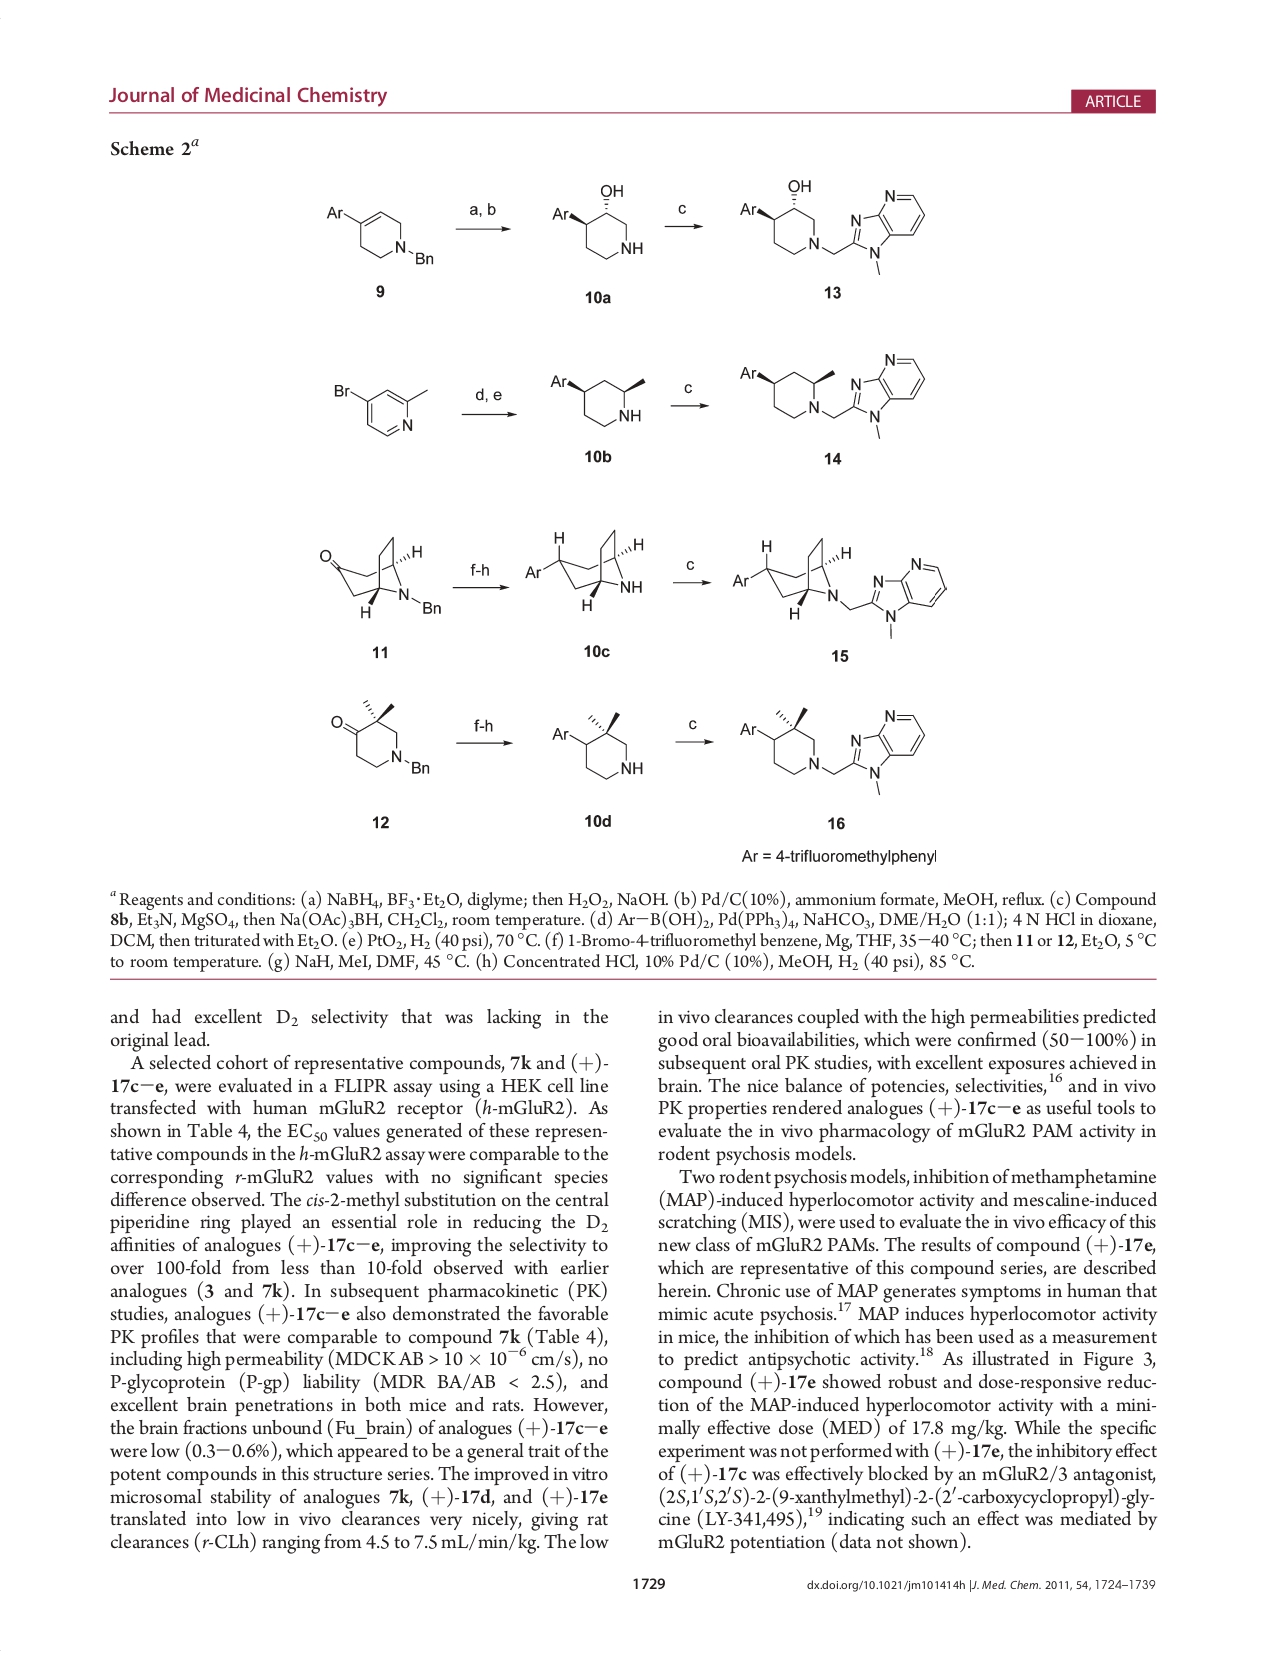exist_molecular: (725, 536, 949, 640), (737, 178, 926, 278), (734, 704, 928, 799), (737, 348, 926, 442), (521, 523, 653, 614), (316, 531, 445, 622), (545, 178, 648, 267), (322, 201, 440, 274), (328, 697, 434, 778), (549, 711, 645, 782), (543, 367, 649, 430), (328, 382, 431, 436)
